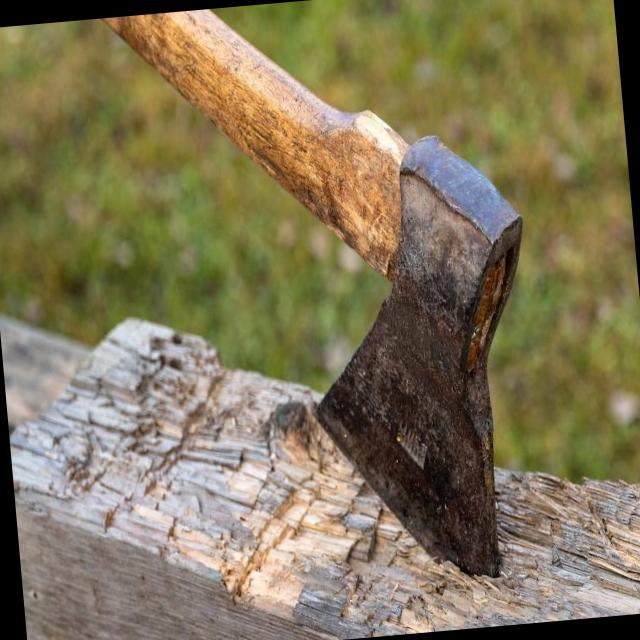Axe: (105, 9, 521, 575)
